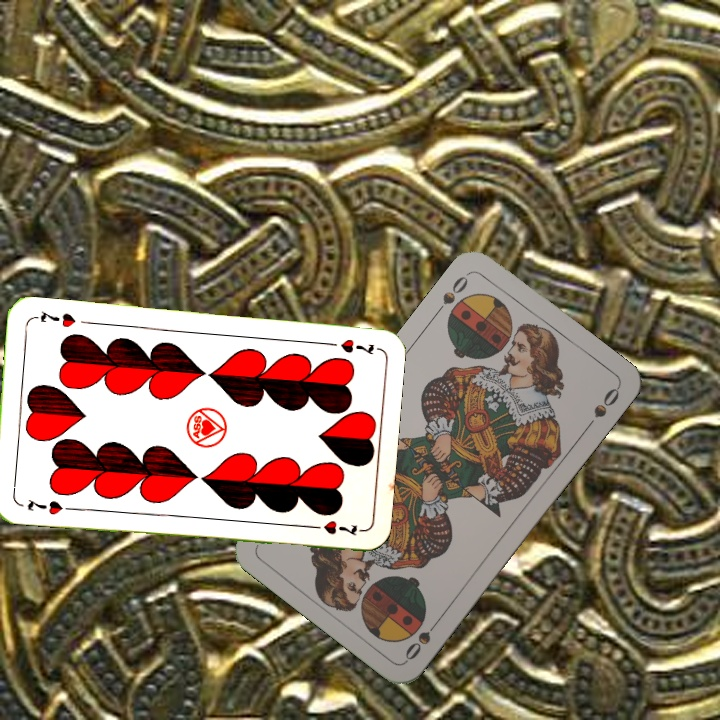H7: (321, 335, 380, 358), (23, 495, 65, 518)
SO: (400, 613, 444, 664), (430, 268, 473, 319)
